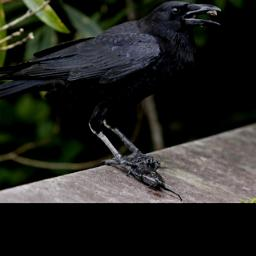Crow: (0, 0, 222, 177)
